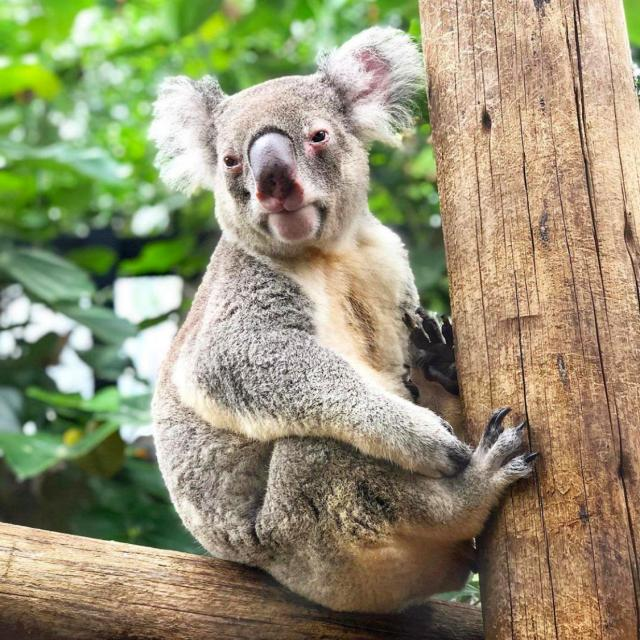koala: (151, 26, 536, 612)
